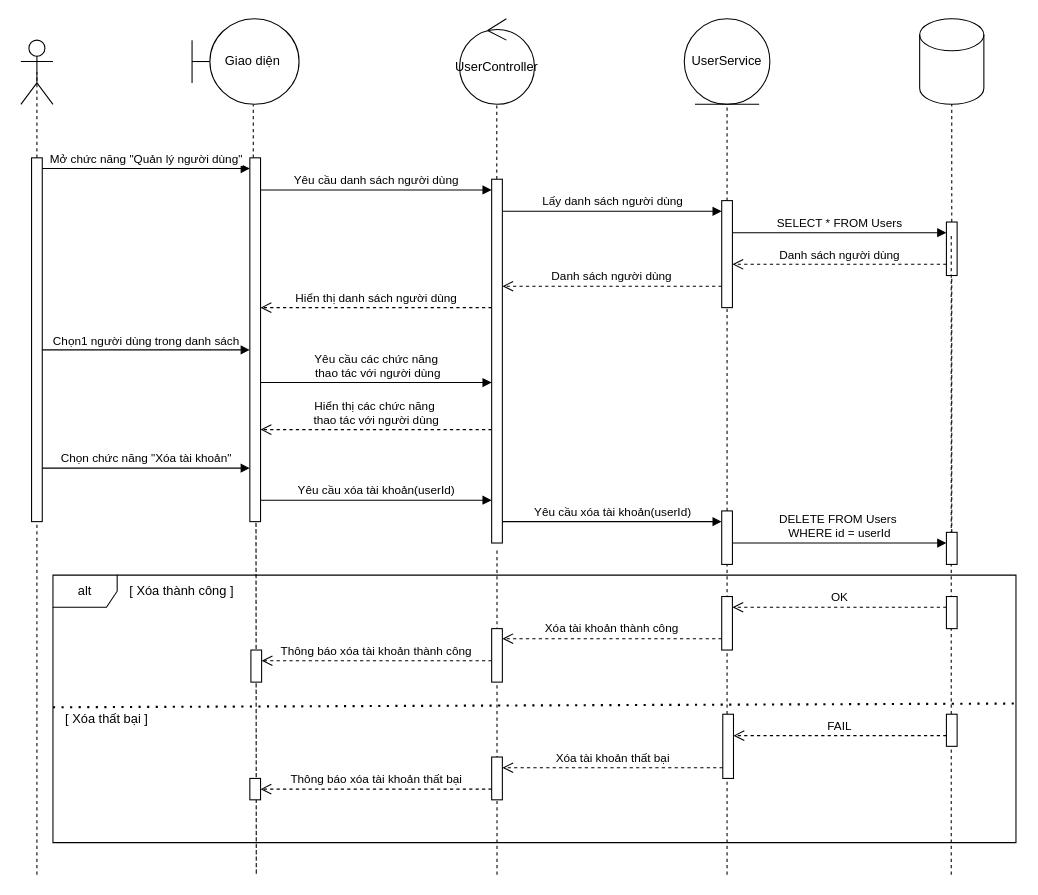
The diagram is 1038 pixels wide and 895 high, and some of its shapes have lost their labels. Here are the shapes that lost their labels. From the top down, the box of each, then its label:
(20, 39, 53, 104): Admin
(919, 18, 984, 104): Database
